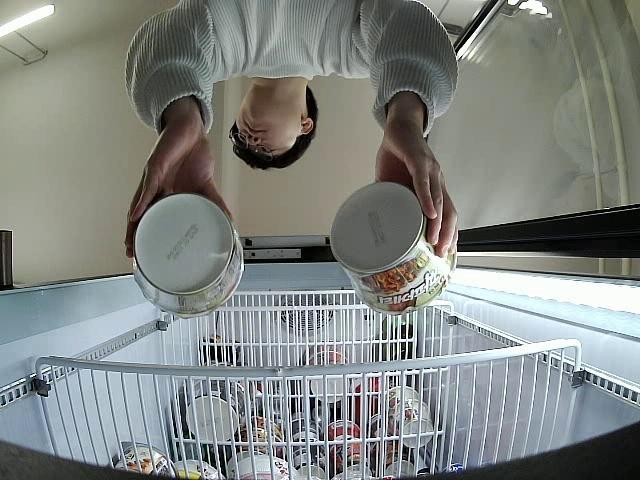03_chapagetti_L: (329, 180, 458, 315), (134, 194, 245, 319)
